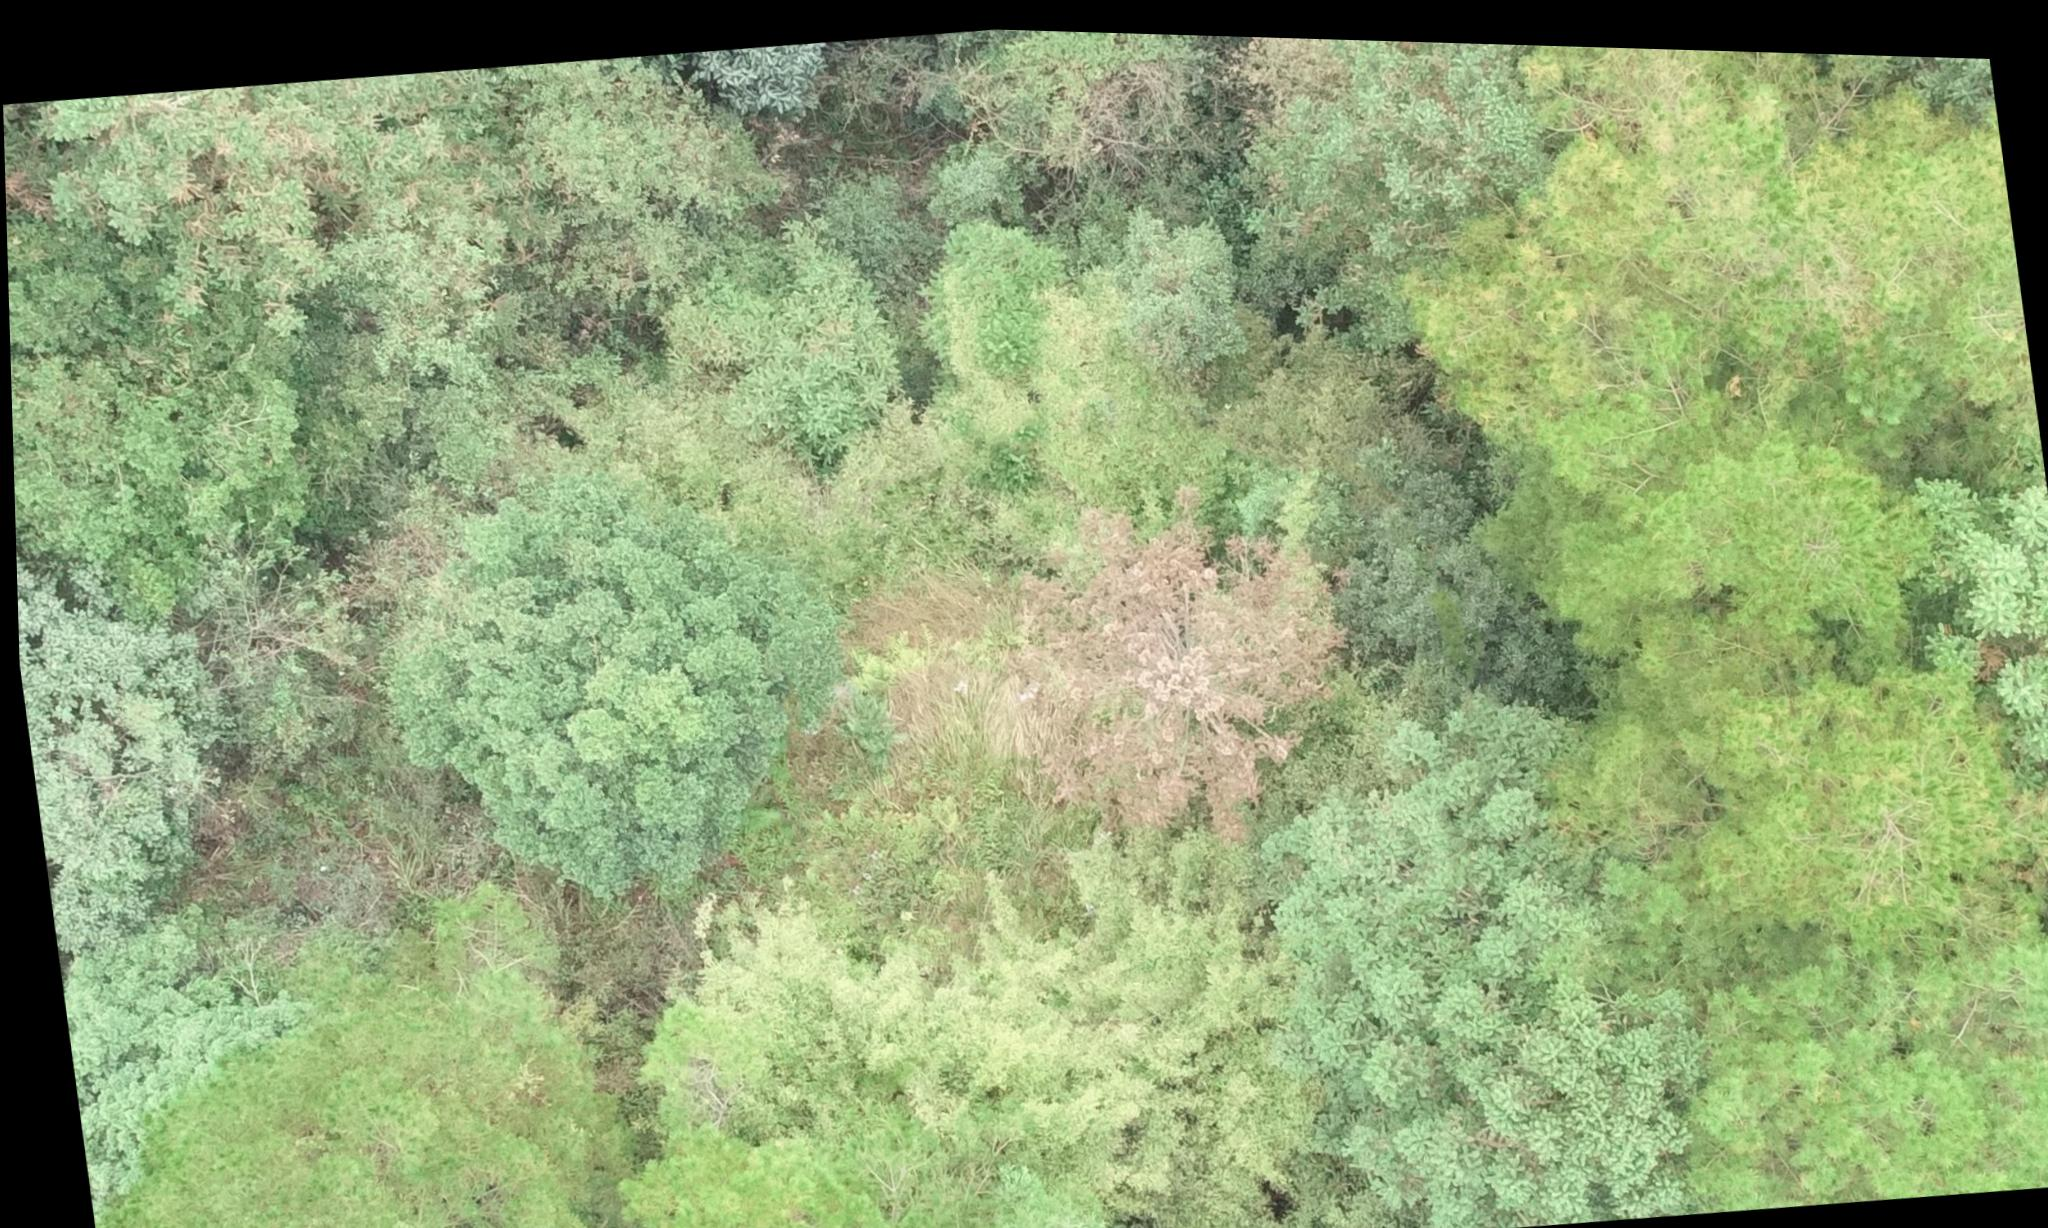heavy: (918, 466, 1376, 867)
